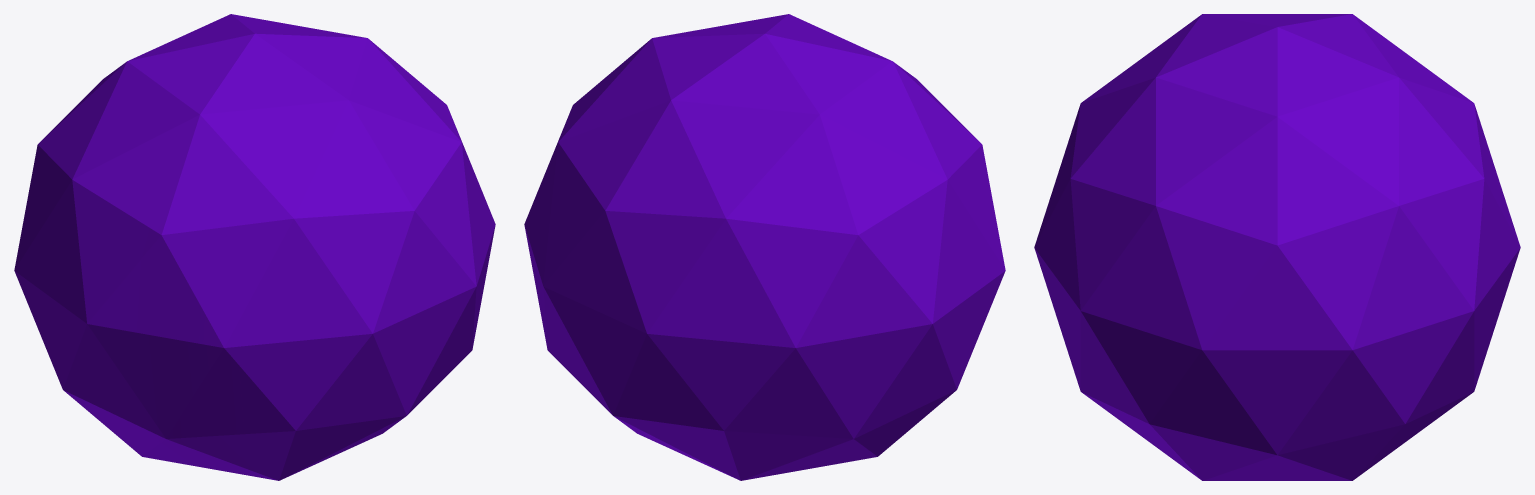
Rendered from PlayerTrajectoryPoint.fbx.
3 renders of one model, left to right at view 1: azimuth 30°, elevation 25°; view 2: azimuth 150°, elevation 25°; view 3: azimuth 270°, elevation 25°, orthographic. The views are drawn at different scales.
Parts seen in each view (by area): view 1: TrajectoryPoint; view 2: TrajectoryPoint; view 3: TrajectoryPoint.
Part boxes in pixels (x1,y1,x2,y2): TrajectoryPoint: [14, 14, 495, 480]; TrajectoryPoint: [524, 14, 1005, 480]; TrajectoryPoint: [1034, 14, 1520, 480].
Bounding box in the file's own units: 2 × 2 × 2.
